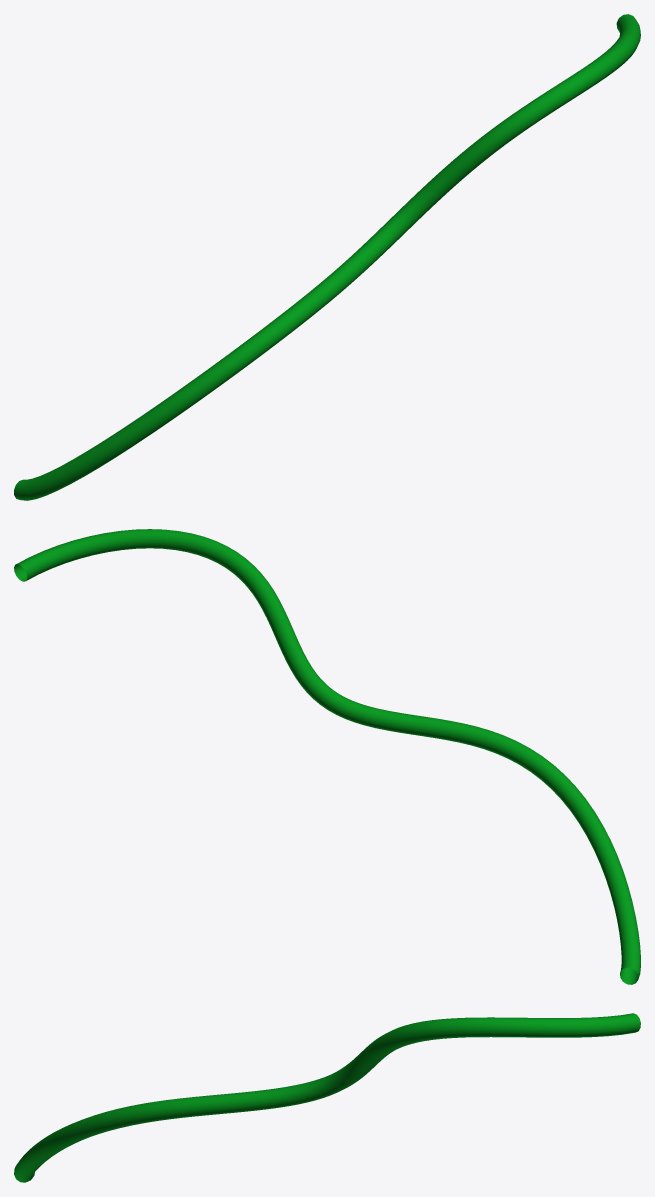
The model's file is GreenWire.fbx.
3 views of the same model, one above another, from view 1: azimuth 30°, elevation 25°; view 2: azimuth 150°, elevation 25°; view 3: azimuth 330°, elevation 25° (orthographic). The views are drawn at different scales.
Parts seen in each view (by area): view 1: GreenWire; view 2: GreenWire; view 3: GreenWire.
Boxes of the visible parts, <box> form: GreenWire: <box>14,14,640,500</box>; GreenWire: <box>14,529,640,984</box>; GreenWire: <box>14,1013,640,1182</box>.
Bounding box in the file's own units: 57.72 × 28.2 × 14.35.
